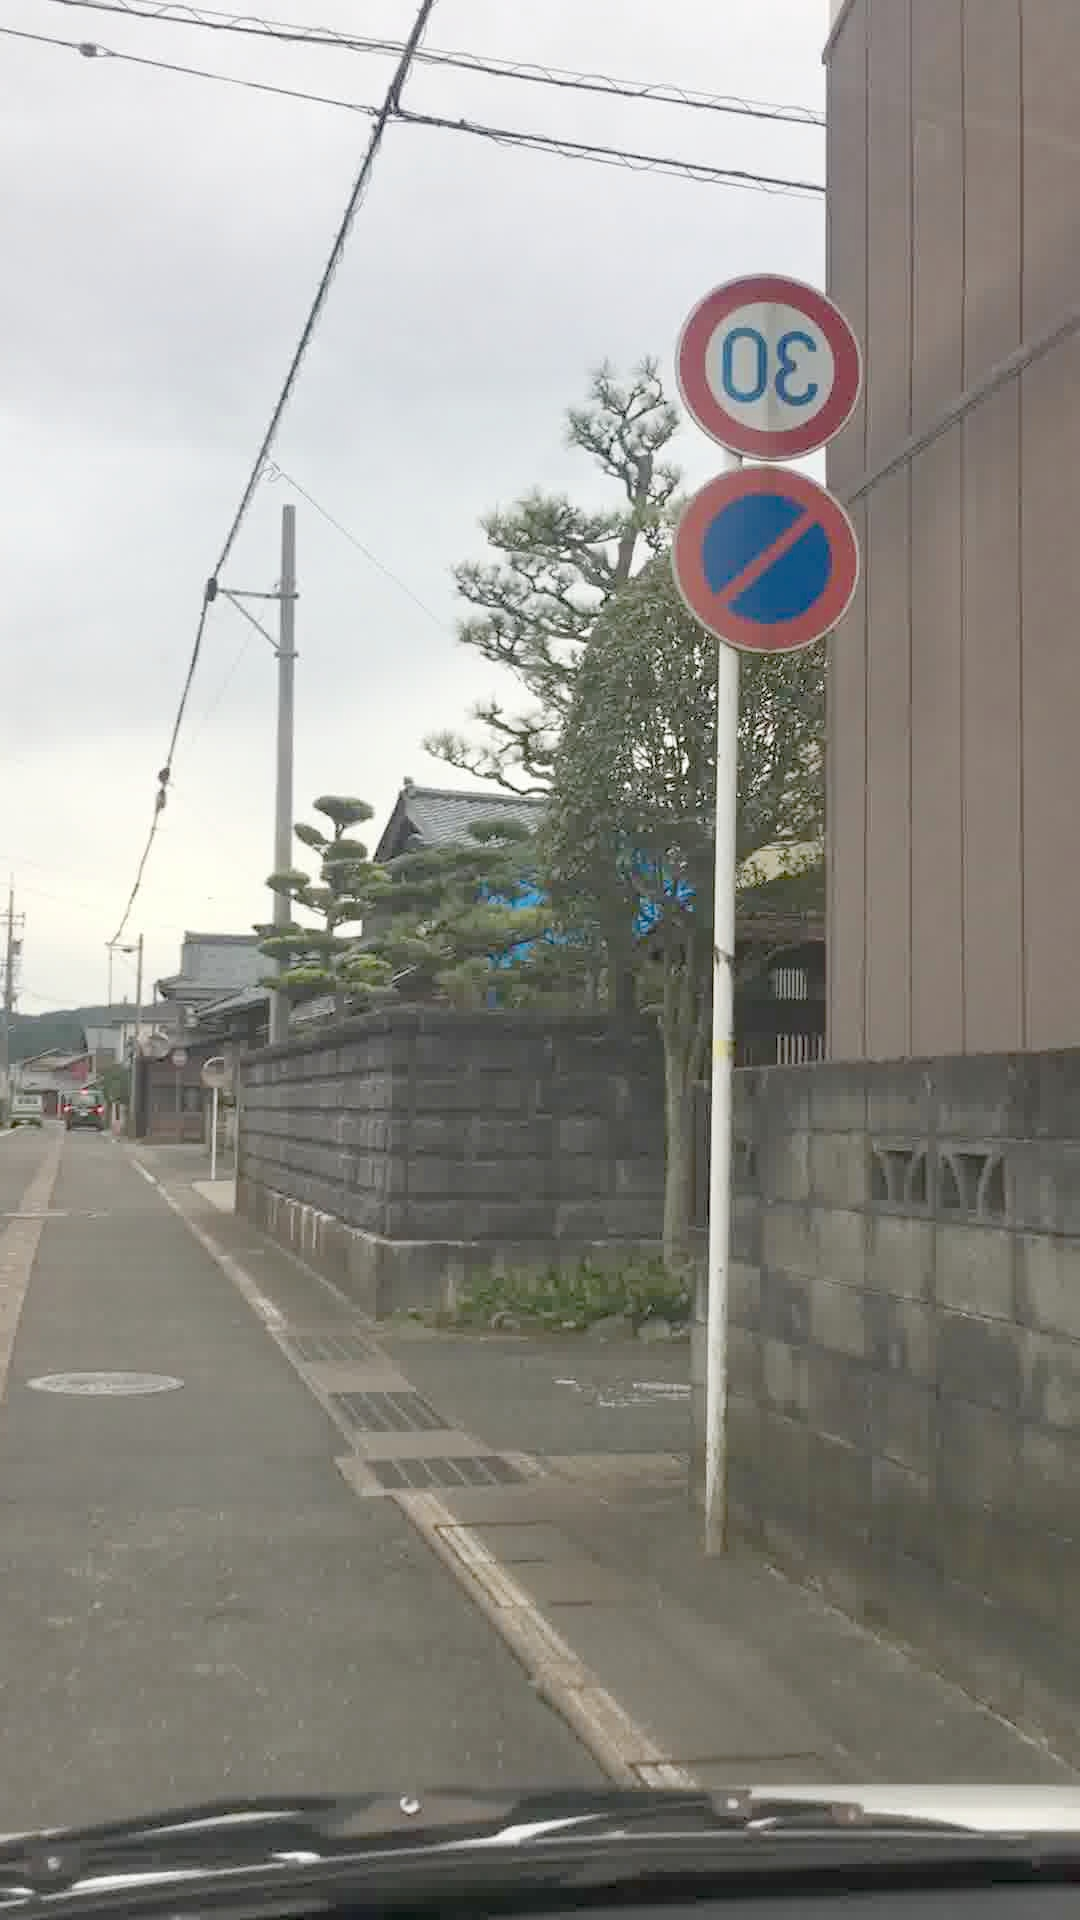Prohibition_sign: (654, 465, 878, 676)
Speed_sign: (651, 262, 856, 469)
